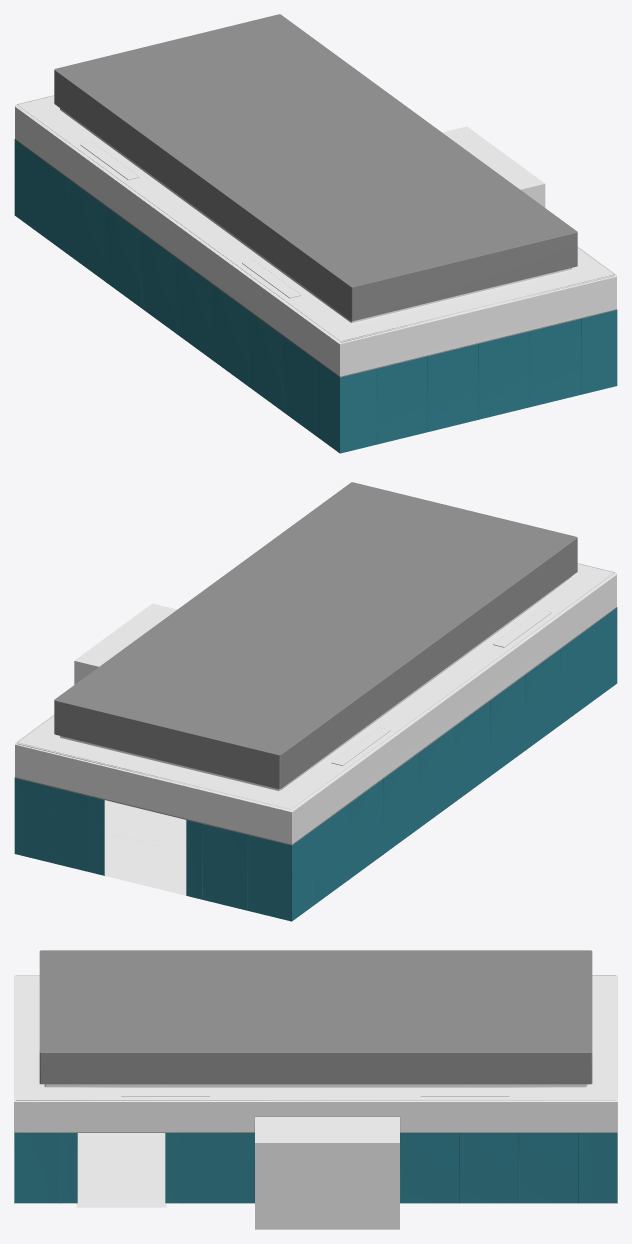
3 renders of one model, top to bottom at view 1: azimuth 30°, elevation 25°; view 2: azimuth 150°, elevation 25°; view 3: azimuth 270°, elevation 25°, orthographic. The views are drawn at different scales.
Visible parts, largest first — view 1: SM_H_Building_FutureTech_HOrange_01_InterWall_10a; view 2: SM_H_Building_FutureTech_HOrange_01_InterWall_10a; view 3: SM_H_Building_FutureTech_HOrange_01_InterWall_10a.
Part boxes in pixels (x1,y1,x2,y2): SM_H_Building_FutureTech_HOrange_01_InterWall_10a: (14, 14, 617, 453); SM_H_Building_FutureTech_HOrange_01_InterWall_10a: (14, 482, 617, 921); SM_H_Building_FutureTech_HOrange_01_InterWall_10a: (14, 950, 617, 1229).
Size of the model in its own units: 716 by 426 by 182.
